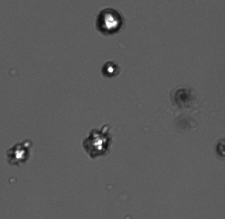Dead Cell: (174, 87, 192, 106)
Living Cell: (82, 127, 111, 158), (96, 8, 123, 35), (7, 142, 30, 165), (102, 61, 118, 77)
